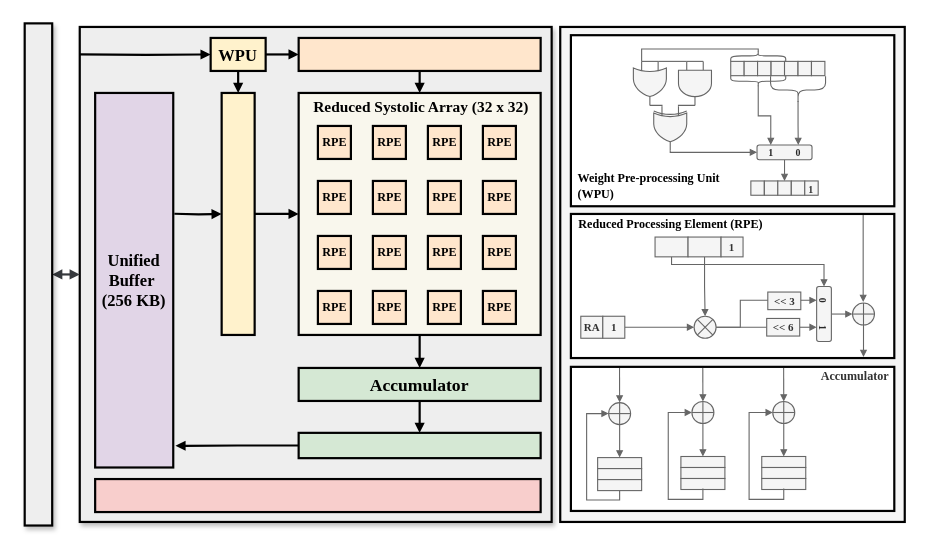
Some shapes in this 925 by 553 pixel diagram are drawn without their labels. The shapes that lost their labels are listed below. From the top down, each one's centre as x and y in pixels, then its label:
At point (419, 54): "Weight Memory (160 KB)".
At point (237, 213): "Data Setup".
At point (671, 246): "Shift".
At point (704, 246): "RW".
At point (39, 275): "Host Interface".
At point (419, 445): "ReLU / Normalization".
At point (317, 495): "TPU System Controllor".
